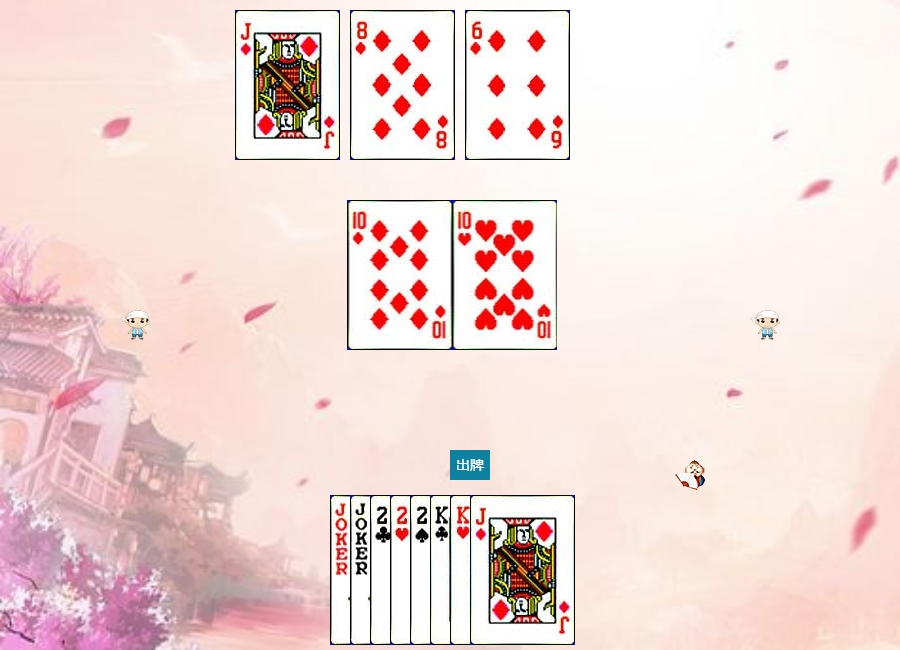10~1: (348, 200, 453, 350)
10~3: (453, 200, 558, 350)
11~1: (235, 10, 340, 160), (470, 495, 575, 645)
13~2: (430, 495, 535, 645)
13~3: (450, 495, 555, 645)
15~2: (370, 495, 475, 645)
15~3: (390, 495, 495, 645)
15~4: (410, 495, 515, 645)
17~3: (350, 495, 455, 645)
18~4: (330, 495, 435, 645)
6~1: (465, 10, 570, 160)
8~1: (350, 10, 455, 160)
